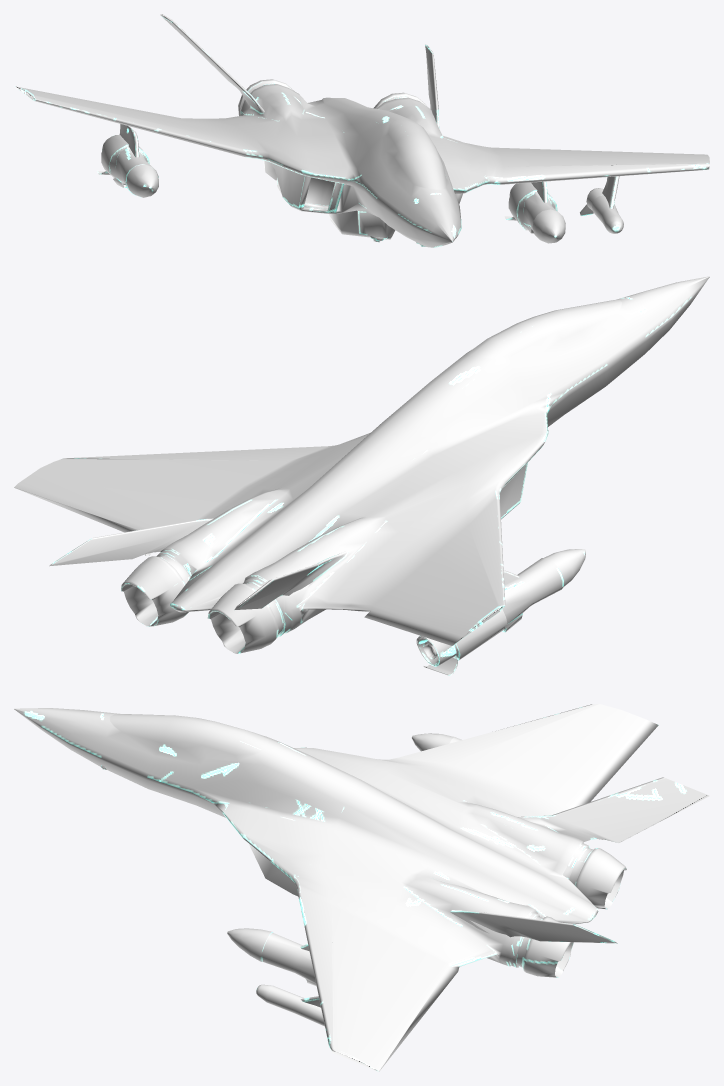
File: chasseur_v3.glb
3 renders of one model, top to bottom at view 1: azimuth 30°, elevation 25°; view 2: azimuth 150°, elevation 25°; view 3: azimuth 270°, elevation 25°, orthographic. The views are drawn at different scales.
Visible parts, largest first — view 1: chasseur_v3; view 2: chasseur_v3; view 3: chasseur_v3.
Part boxes in pixels (x1=…): chasseur_v3: x1=14, y1=14, x2=709, y2=247; chasseur_v3: x1=14, y1=276, x2=709, y2=675; chasseur_v3: x1=14, y1=704, x2=709, y2=1071.
Bounding box in the file's own units: 2.54 × 0.9329 × 2.86.
1 material, 1 textured.
